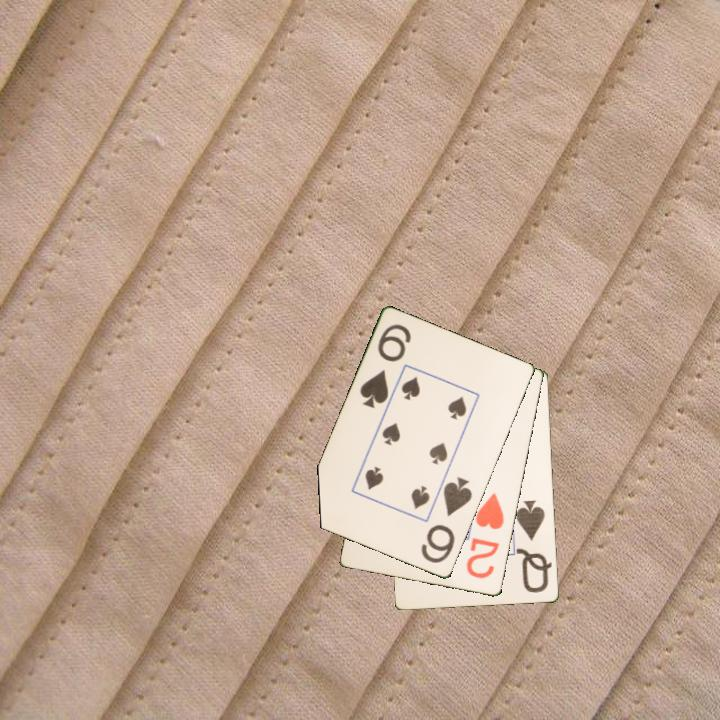2h: (463, 489, 507, 582)
6s: (417, 473, 475, 567), (356, 321, 414, 412)
Qs: (513, 496, 555, 596)
